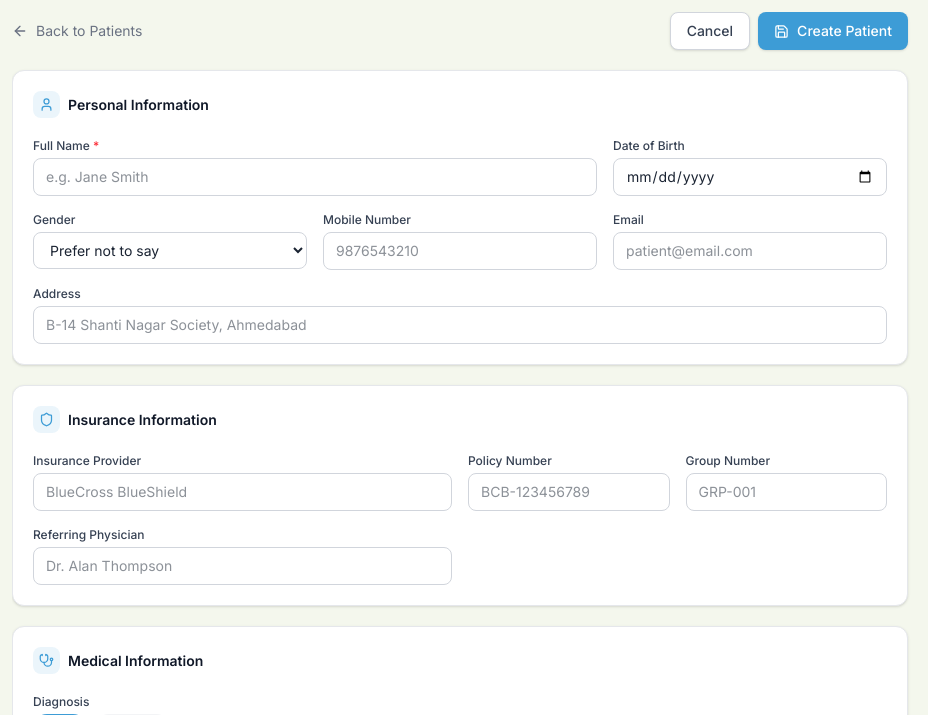
Test: PatientForm › clears a field error once the user types into it
The width and height of the screenshot is (928, 715).
Click the button "Create Patient" at [833, 31], box [758, 12, 908, 50]
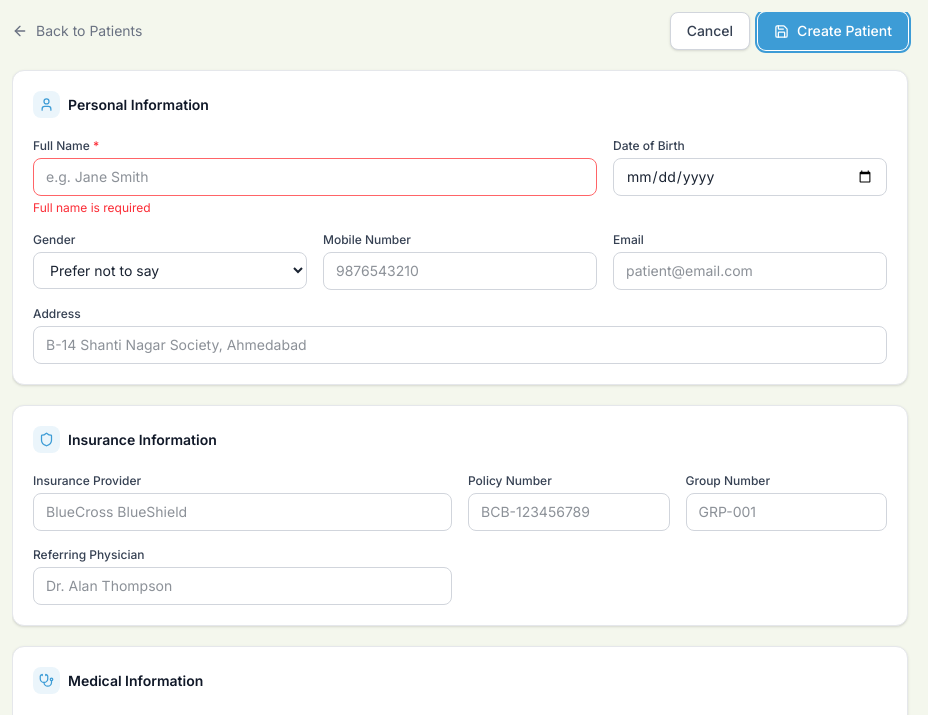
Check: the text "Full name is required" is shown, box [33, 200, 151, 215]
Type "A" into the field with placeholder "e.g. Jane Smith" at [315, 177], box [33, 158, 597, 196]
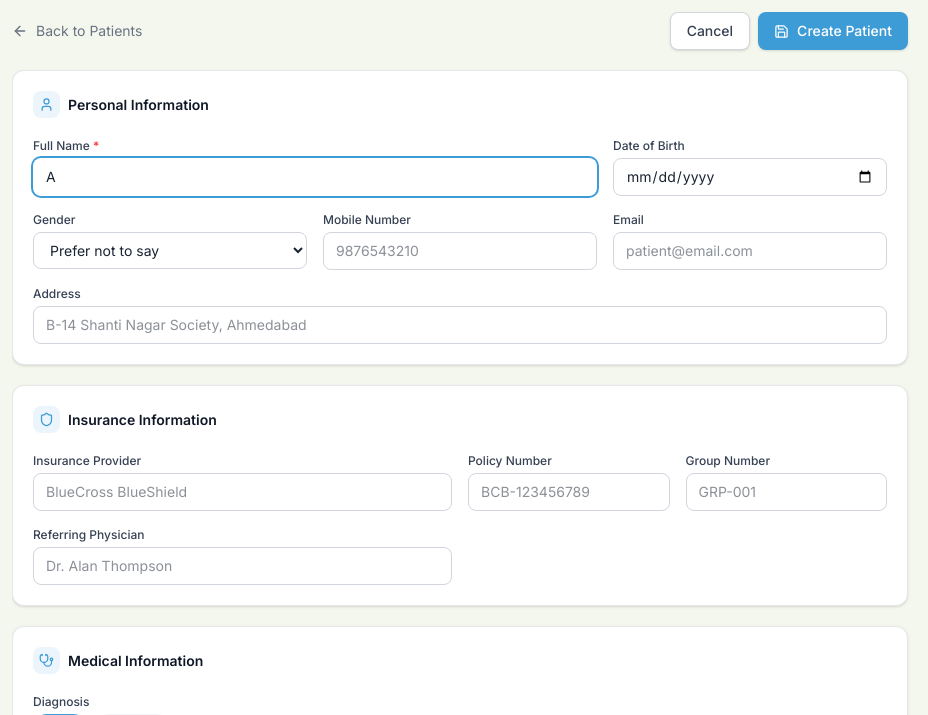
Check: the text "Full name is required" is gone
